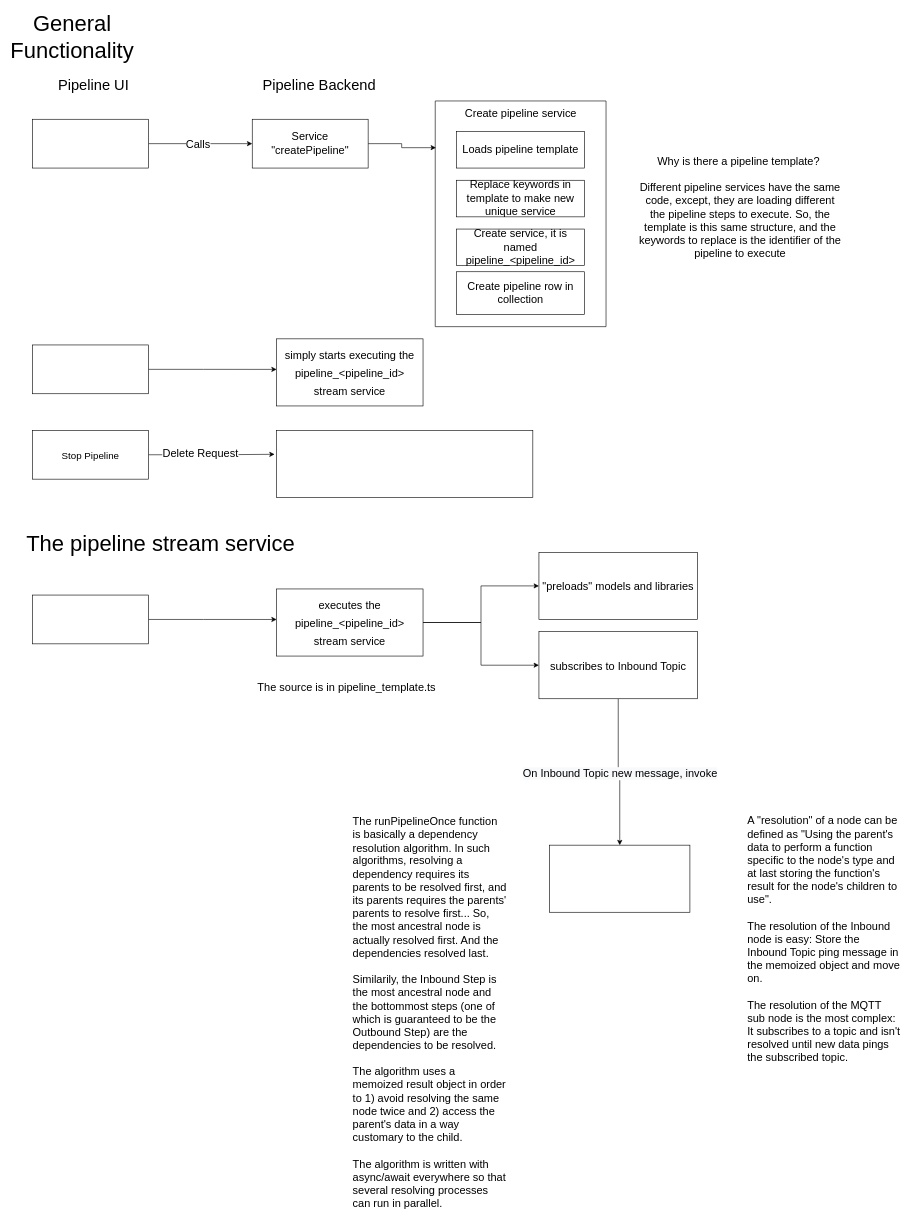
The diagram is 912 pixels wide and 1221 high, and some of its shapes have lost their labels. Here are the shapes that lost their labels. From the top down, the centre of each, then its label:
At (90,143): "Submit Pipeline Form".
At (90,369): "Start Pipeline".
At (404,463): "${ cb . URI } /codeadmin/v/3/running/ ${ cb . systemKey }".
At (90,619): "Start Pipeline in UI".
At (619,878): "runPipelineOnce function".
